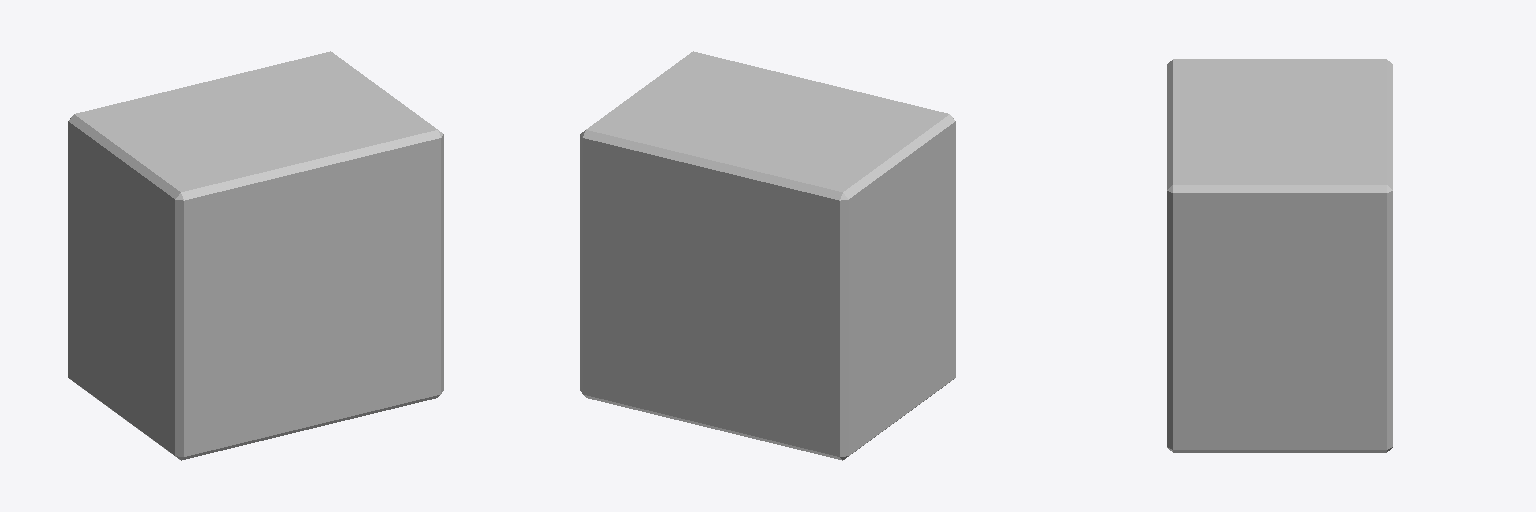
3 views of the same model, side by side, from view 1: azimuth 30°, elevation 25°; view 2: azimuth 150°, elevation 25°; view 3: azimuth 270°, elevation 25° (orthographic).
Parts seen in each view (by area): view 1: Liquid_Domain; view 2: Liquid_Domain; view 3: Liquid_Domain.
Part boxes in pixels (bbox=[...]): Liquid_Domain: bbox=[68, 51, 443, 460]; Liquid_Domain: bbox=[580, 51, 955, 460]; Liquid_Domain: bbox=[1167, 59, 1392, 452].
Bounding box in the file's own units: 16.97 × 16.22 × 12.43.